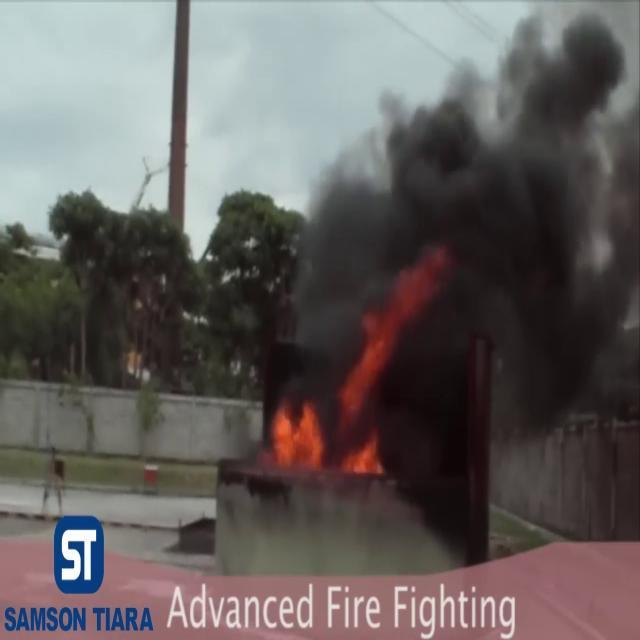Fire: (265, 391, 327, 477)
Smoke: (267, 4, 639, 522)
